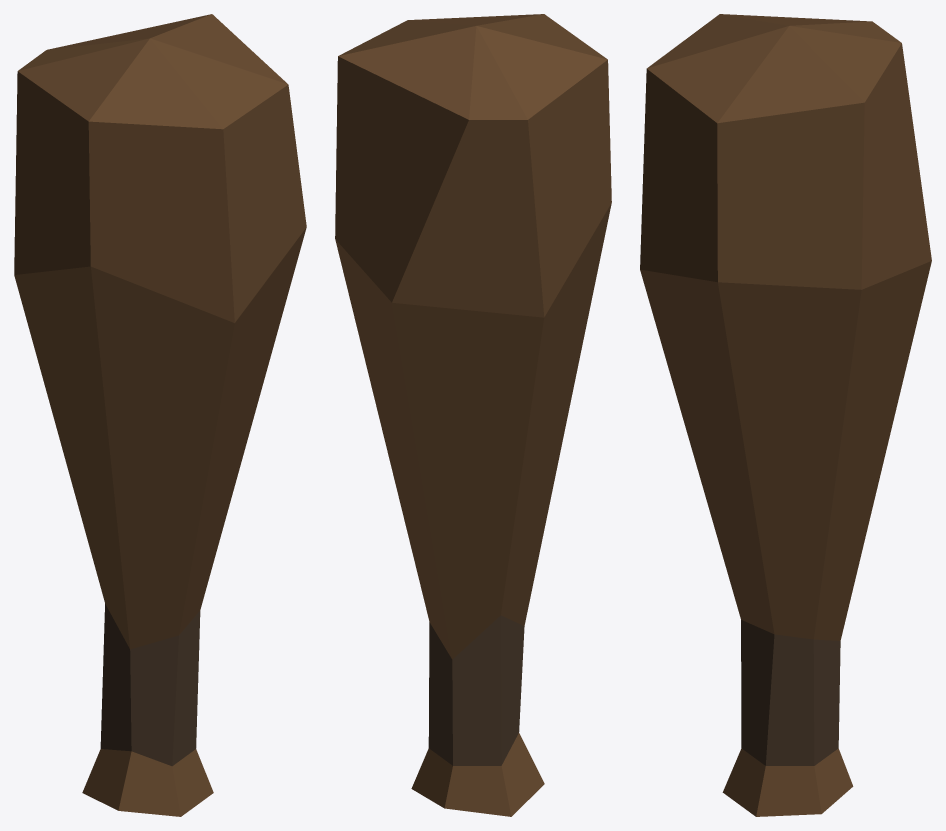
The model's file is tribal-club-tribal.glb.
The picture shows the model from 3 angles, left to right: view 1: azimuth 30°, elevation 25°; view 2: azimuth 150°, elevation 25°; view 3: azimuth 270°, elevation 25°; orthographic projection.
Visible parts, largest first — view 1: SM_Club_Tribal; view 2: SM_Club_Tribal; view 3: SM_Club_Tribal.
Part boxes in pixels (left/top/right/bottom): SM_Club_Tribal: left=14, top=14, right=306, bottom=816; SM_Club_Tribal: left=335, top=14, right=611, bottom=816; SM_Club_Tribal: left=640, top=14, right=931, bottom=816.
Bounding box in the file's own units: 0.2171 × 0.7018 × 0.2419.
